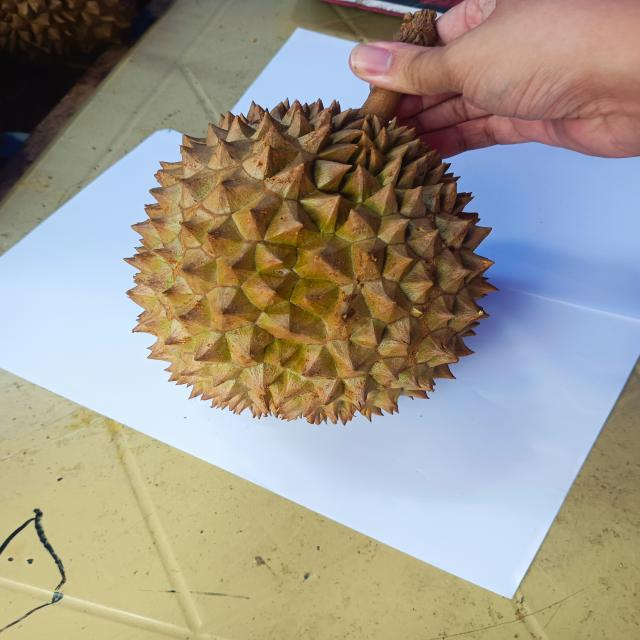mature: (126, 88, 497, 424)
